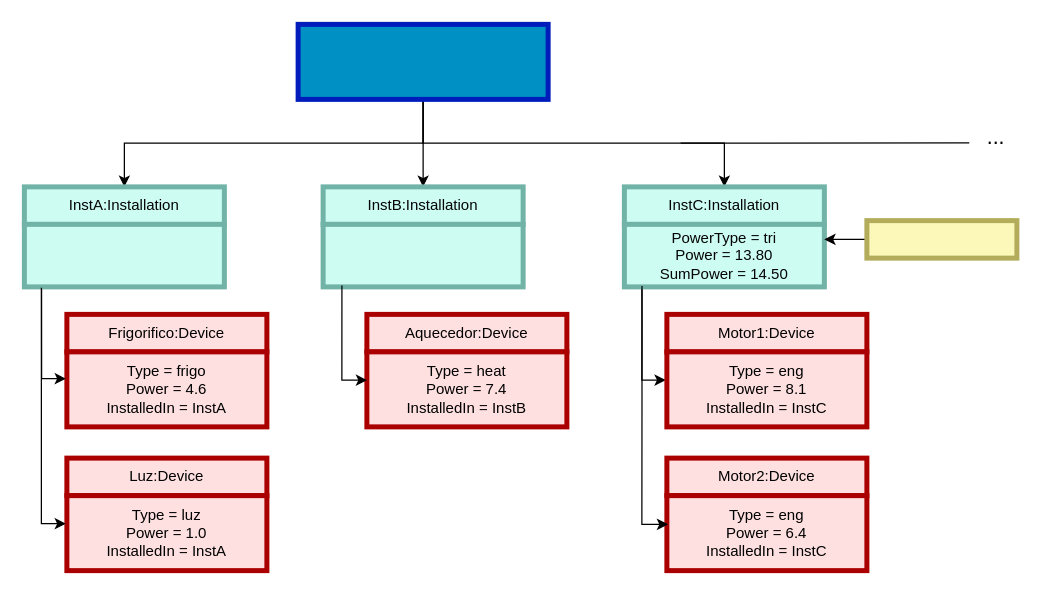
This 1041x594 diagram has some shape labels left out. Here are the shapes that lost their labels. From the top down, the box of each, then its label:
(295, 21, 550, 101): S:SEE Energy Management
(21, 221, 226, 289): PowerType = mono Power = 6.9 SumPower = 4.6
(320, 221, 525, 289): PowerType = mono Power = 10.35 SumPower = 7.4
(864, 218, 1019, 260): CheckSumP:Demon
